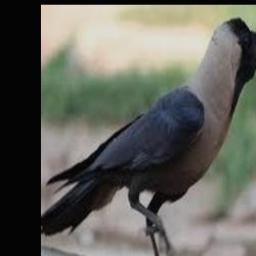Crow: (42, 17, 256, 256)
